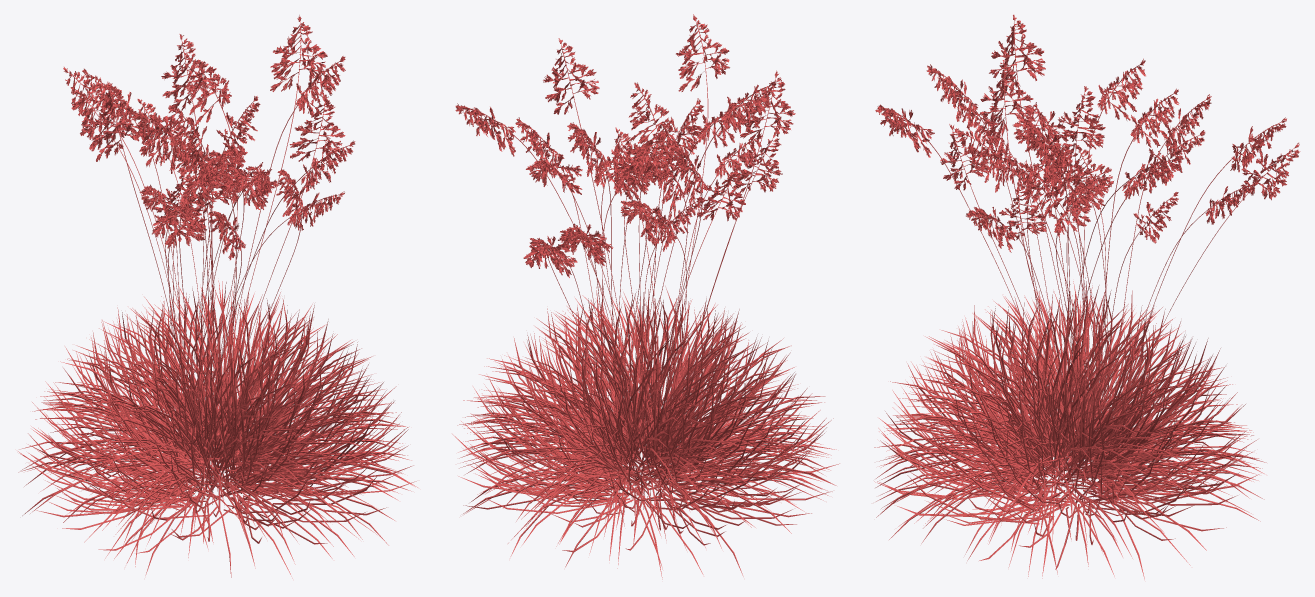
3 renders of one model, left to right at view 1: azimuth 30°, elevation 25°; view 2: azimuth 150°, elevation 25°; view 3: azimuth 270°, elevation 25°, orthographic. The views are drawn at different scales.
Parts seen in each view (by area): view 1: Object02, Object01, AM126_067_v1; view 2: Object02, Object01, AM126_067_v1; view 3: Object02, Object01, AM126_067_v1.
Part boxes in pixels (<box>): Object02: <box>18,21,417,578</box>; Object01: <box>63,15,355,260</box>; AM126_067_v1: <box>69,24,348,252</box>; Object02: <box>452,20,839,579</box>; Object01: <box>455,14,795,277</box>; AM126_067_v1: <box>460,23,787,271</box>; Object02: <box>874,20,1294,579</box>; Object01: <box>875,14,1300,252</box>; AM126_067_v1: <box>881,24,1294,244</box>.
Bounding box in the file's own units: 781 × 963 × 837.
